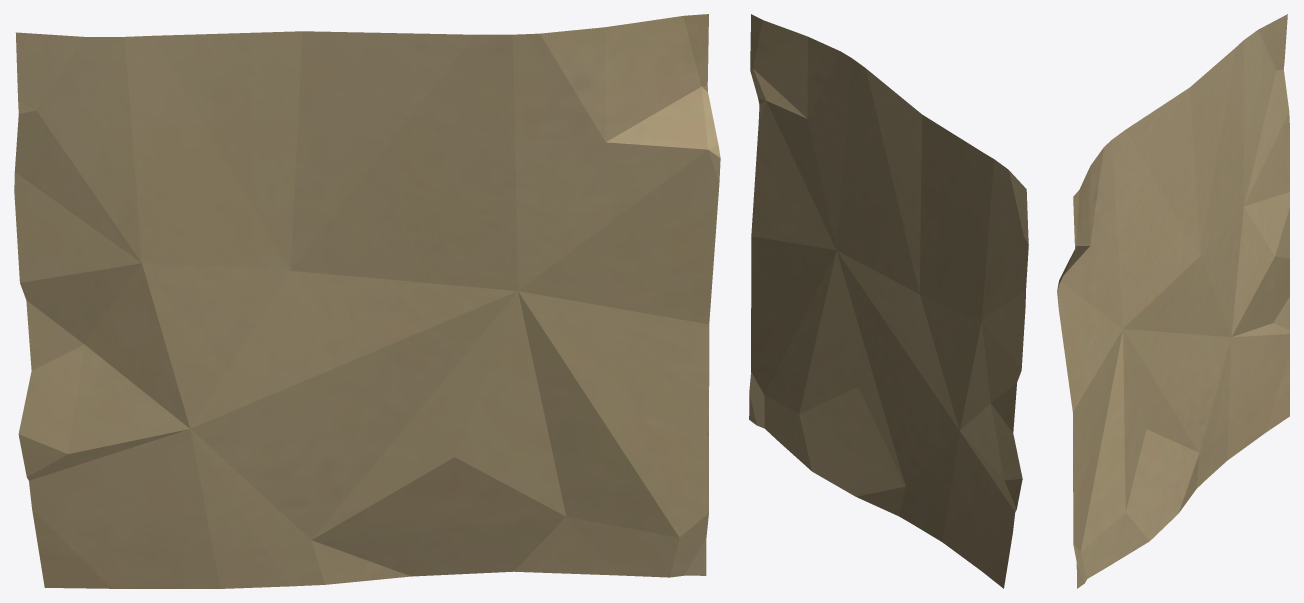
3 views of the same model, side by side, from view 1: azimuth 30°, elevation 25°; view 2: azimuth 150°, elevation 25°; view 3: azimuth 270°, elevation 25° (orthographic). The views are drawn at different scales.
Size of the model in its own units: 0.8374 by 0.8374 by 0.4507.
3 materials, 3 textured.
